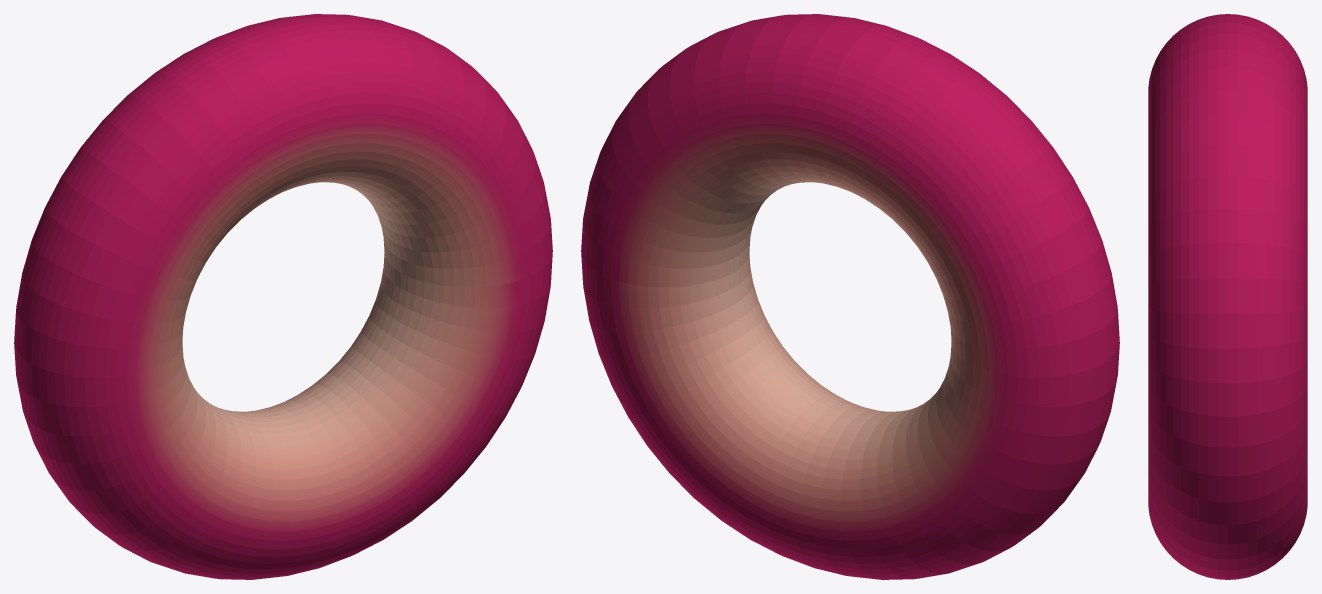
The picture shows the model from 3 angles, left to right: view 1: azimuth 30°, elevation 25°; view 2: azimuth 150°, elevation 25°; view 3: azimuth 270°, elevation 25°; orthographic projection. The views are drawn at different scales.
Visible parts, largest first — view 1: world; view 2: world; view 3: world.
Boxes of the visible parts, box(x1,y1,x2,y2) form: world: box(14, 14, 552, 579); world: box(581, 14, 1119, 579); world: box(1148, 14, 1307, 579).
Bounding box in the file's own units: 29.73 × 29.67 × 8.38.
